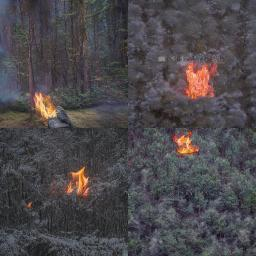Small fire: (17, 79, 75, 133), (57, 157, 112, 211), (177, 51, 225, 106), (167, 129, 207, 160)
